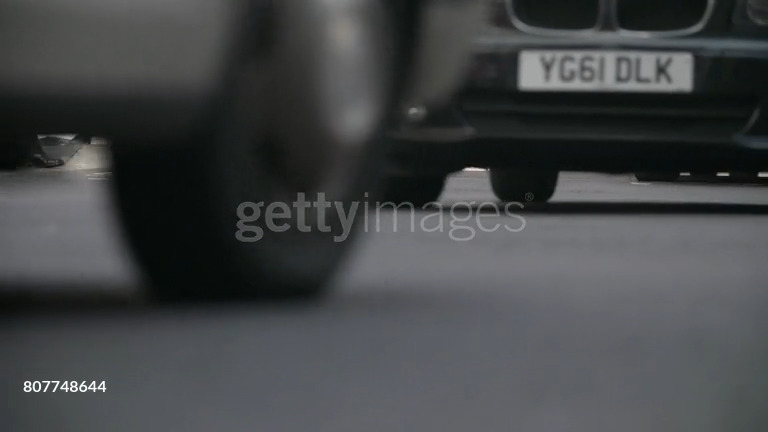car number: (516, 49, 692, 91)
